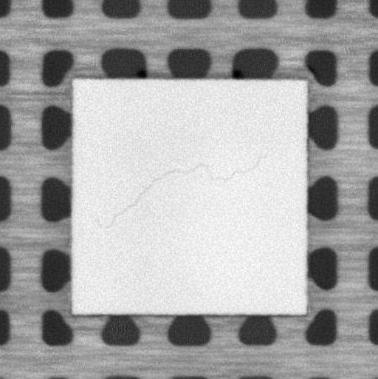DIE_CRACK: (106, 149, 290, 232)
